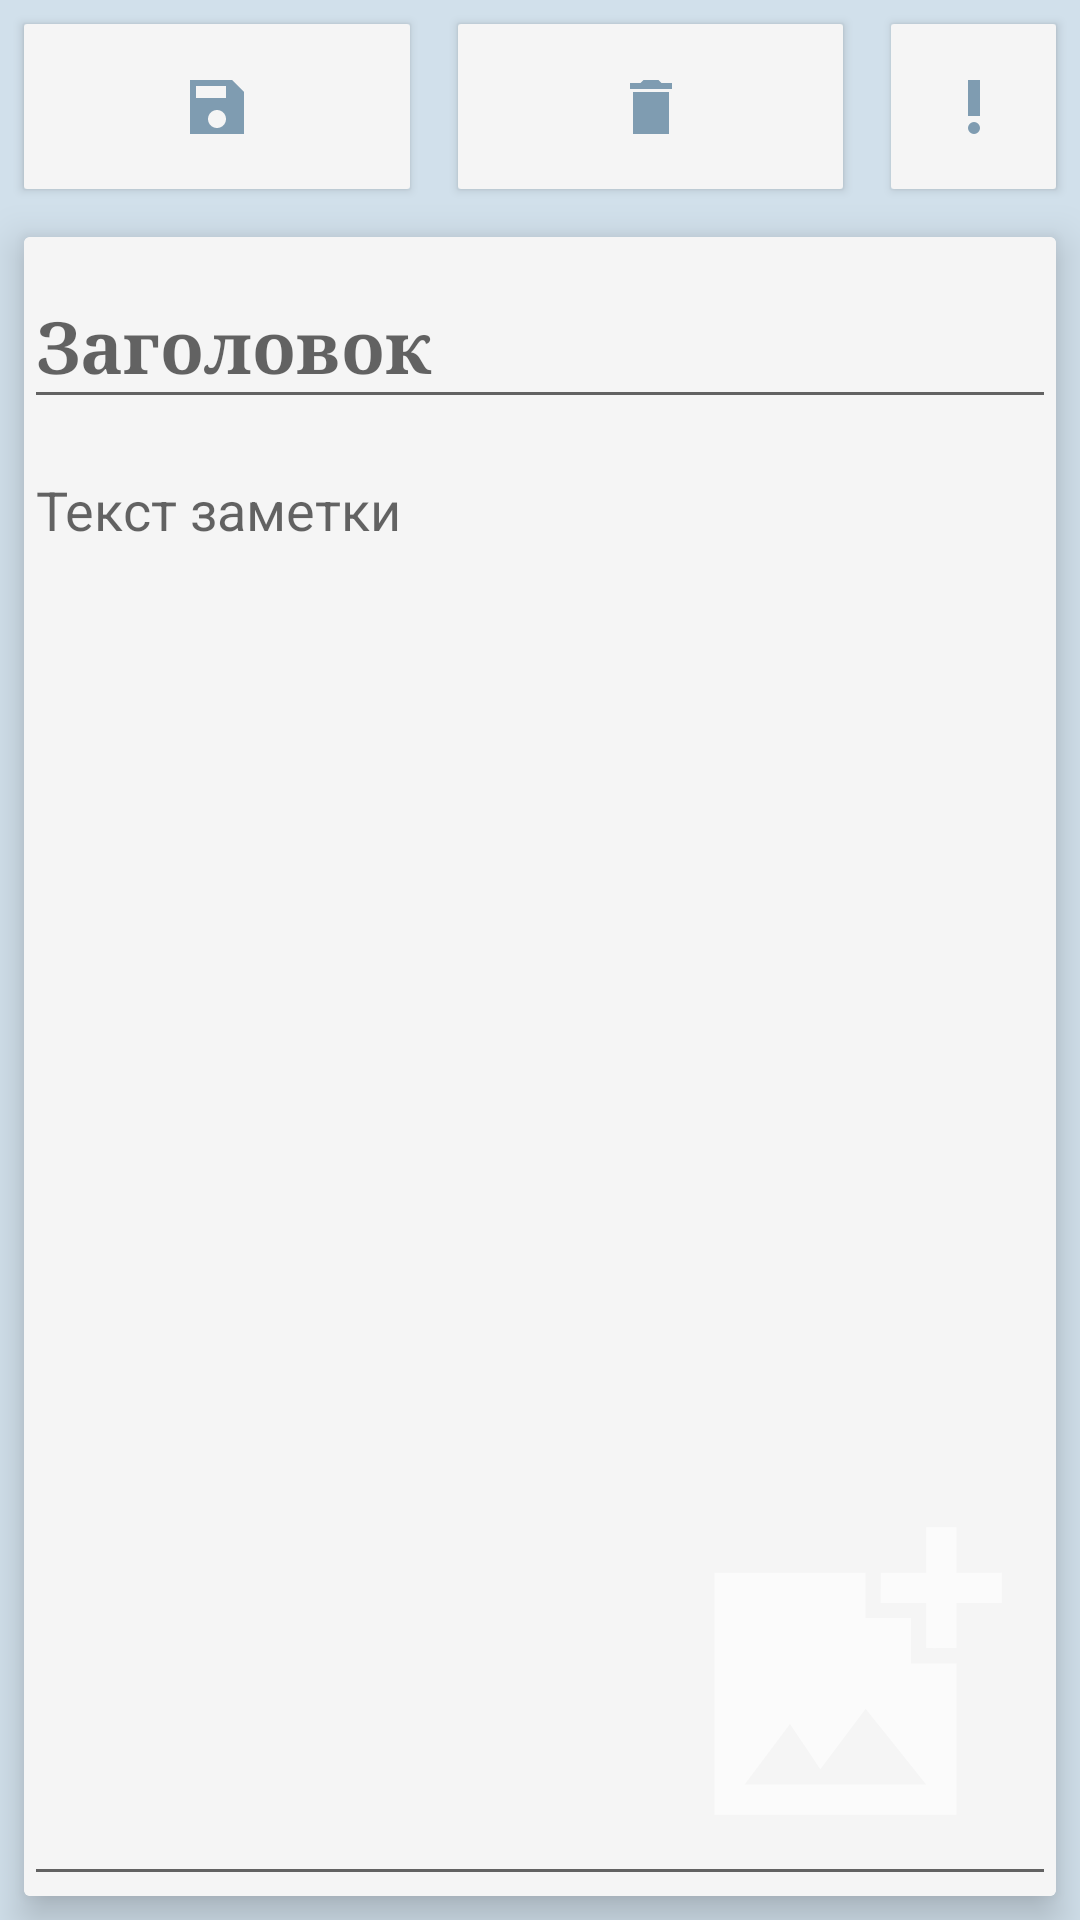

Where icons sit on this 1080px×1920px app screen, as detection(x1, y1, x2, y2):
priority: detection(891, 24, 1056, 189)
